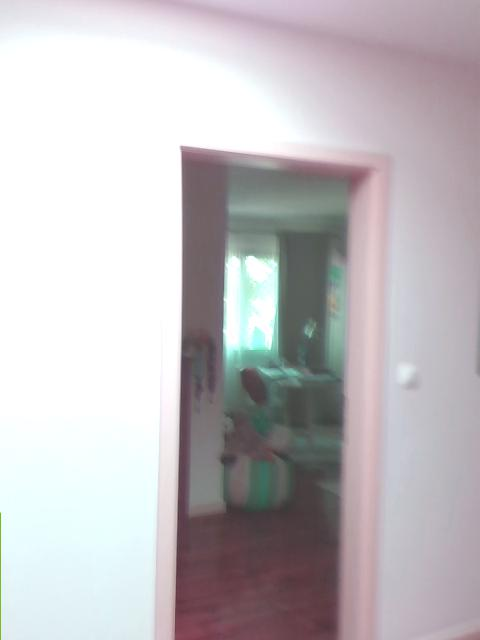open_door: (156, 139, 390, 638)
